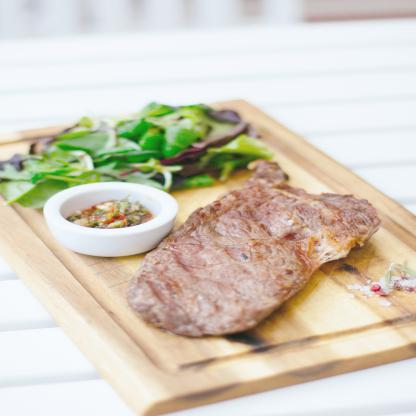Carne: (128, 159, 383, 340)
